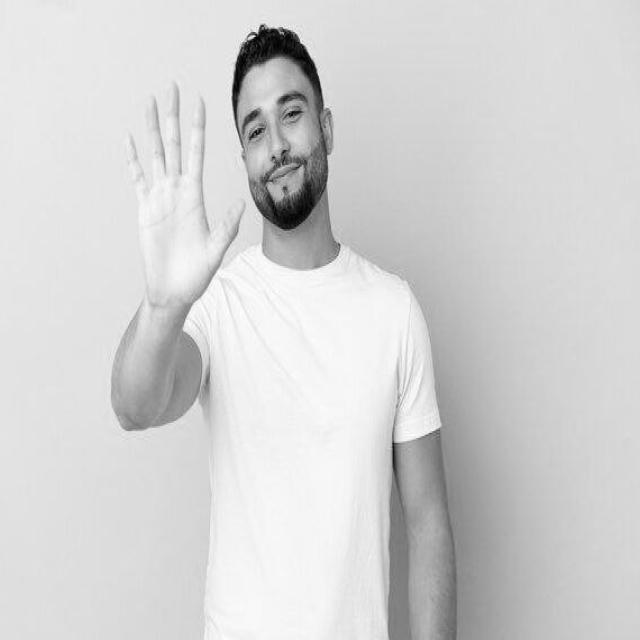stop: (116, 71, 251, 318)
